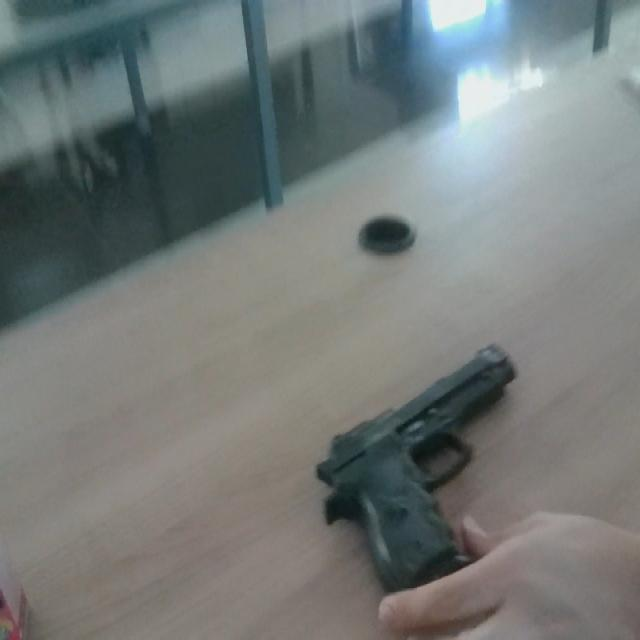handgun: (302, 283, 576, 640)
